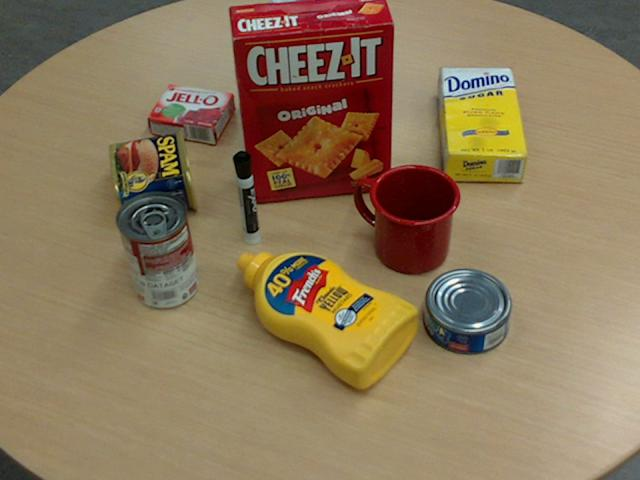cracker_box: (228, 0, 394, 201)
gelatin_box: (145, 82, 234, 143)
large_marker: (232, 151, 260, 245)
master_chef_can: (269, 0, 355, 124)
mug: (355, 163, 460, 273)
mustard_bottle: (236, 252, 417, 388)
potted_meat_can: (109, 128, 197, 219)
sugar_box: (437, 66, 528, 182)
tomato_soup_can: (114, 190, 197, 307)
tuna_fish_can: (423, 268, 512, 353)
